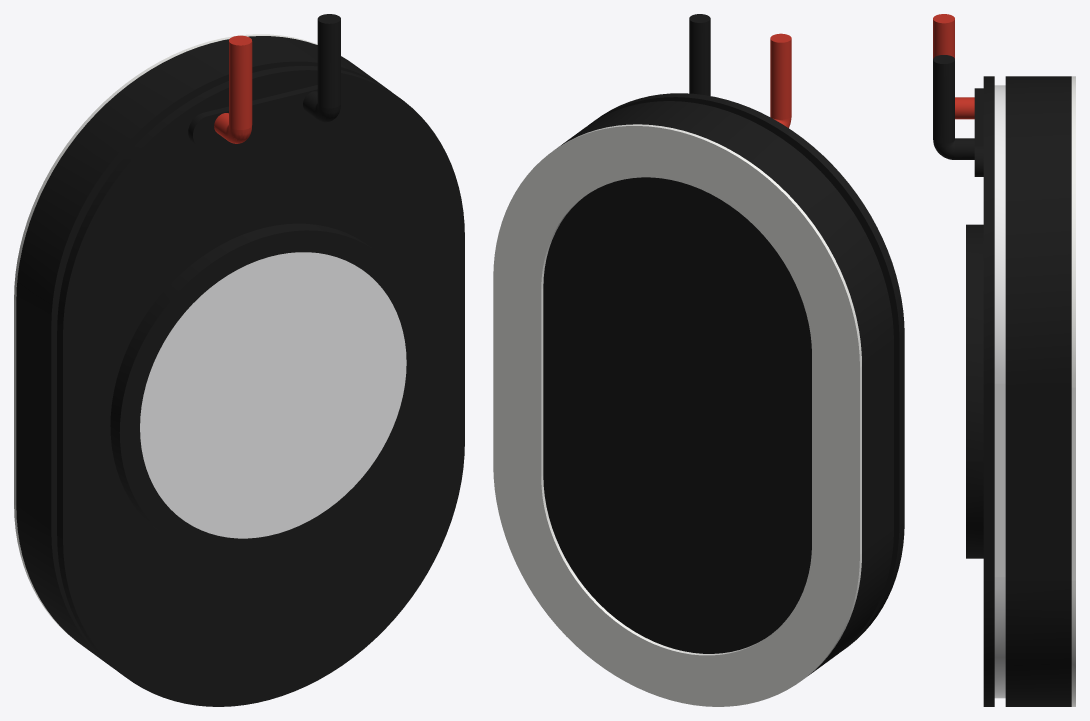
Rendered from speaker-adafruit-3923.glb.
3 renders of one model, left to right at view 1: azimuth 30°, elevation 25°; view 2: azimuth 150°, elevation 25°; view 3: azimuth 270°, elevation 25°, orthographic. The views are drawn at different scales.
Parts seen in each view (by area): view 1: part_0, part_3, part_1, part_2, part_7, part_6, part_5; view 2: part_1, part_5, part_0, part_7, part_6; view 3: part_1, part_0, part_4, part_2, part_5, part_6, part_7.
Part boxes in pixels (box(x1,y1,x2,y2)): part_0: box(57, 65, 464, 706); part_3: box(140, 252, 406, 538); part_1: box(16, 36, 390, 669); part_2: box(110, 223, 426, 560); part_7: box(214, 35, 252, 143); part_6: box(303, 14, 340, 122); part_5: box(14, 34, 346, 640); part_1: box(543, 101, 893, 675); part_5: box(493, 124, 861, 706); part_0: box(589, 93, 904, 651); part_7: box(770, 33, 791, 127); part_6: box(689, 14, 710, 95); part_1: box(1005, 76, 1071, 706); part_0: box(974, 76, 994, 706); part_4: box(994, 85, 1005, 698); part_2: box(966, 224, 983, 558); part_5: box(1071, 76, 1075, 706); part_6: box(933, 55, 974, 159); part_7: box(933, 14, 974, 119).
Bounding box in the file's own units: 19.9 × 32.5 × 6.5.
